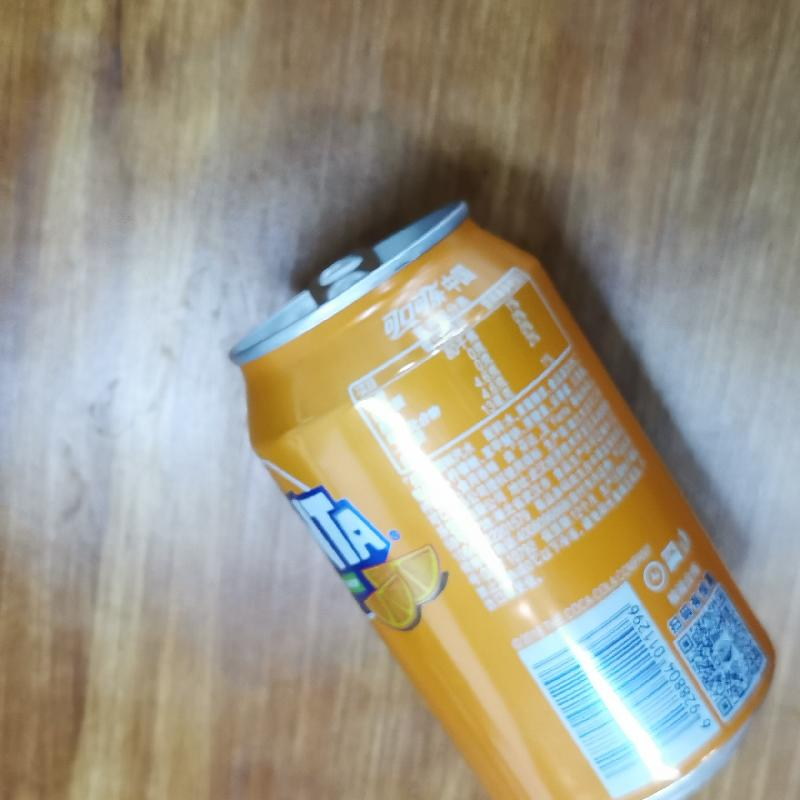cans: (224, 199, 781, 800)
